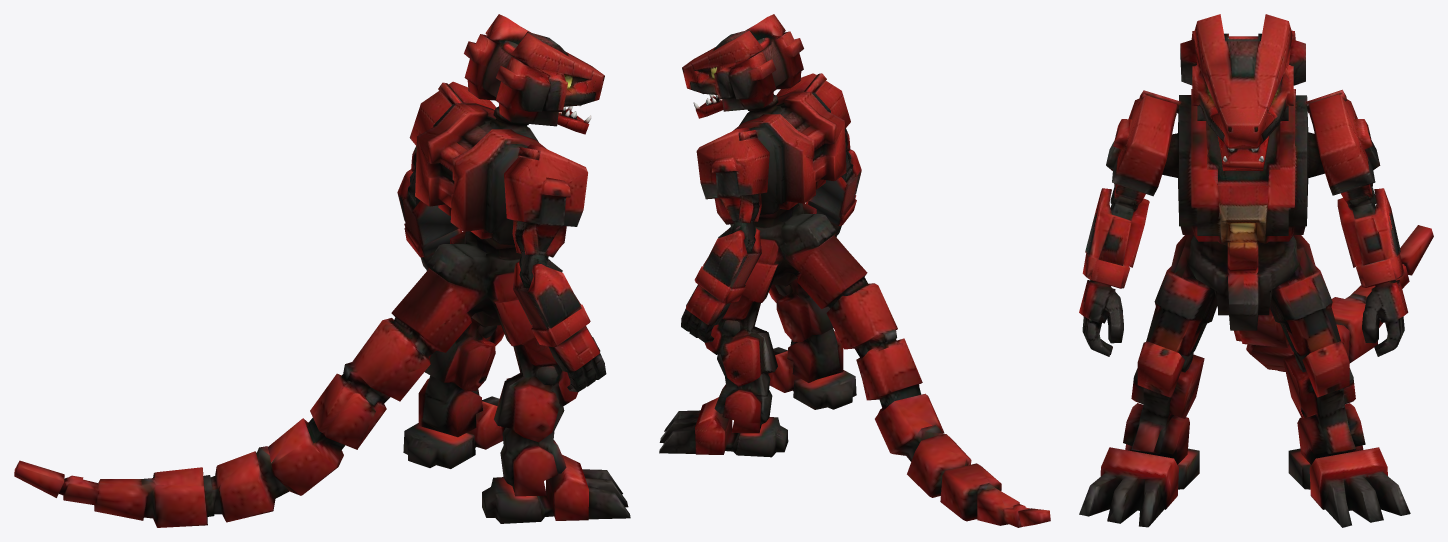
The model's file is veloxion.glb.
3 renders of one model, left to right at view 1: azimuth 30°, elevation 25°; view 2: azimuth 150°, elevation 25°; view 3: azimuth 270°, elevation 25°, orthographic. The views are drawn at different scales.
Parts seen in each view (by area): view 1: tripo_node_07a35b7c-f4a0-4904-986b-cb39e3924b84; view 2: tripo_node_07a35b7c-f4a0-4904-986b-cb39e3924b84; view 3: tripo_node_07a35b7c-f4a0-4904-986b-cb39e3924b84.
Boxes of the visible parts, x1,y1,x2,y2 form: tripo_node_07a35b7c-f4a0-4904-986b-cb39e3924b84: (14, 14, 630, 527); tripo_node_07a35b7c-f4a0-4904-986b-cb39e3924b84: (659, 14, 1050, 527); tripo_node_07a35b7c-f4a0-4904-986b-cb39e3924b84: (1079, 14, 1433, 527).
Bounding box in the file's own units: 0.998 × 0.8691 × 0.5684.
Materials: 1 (1 with a texture image).
